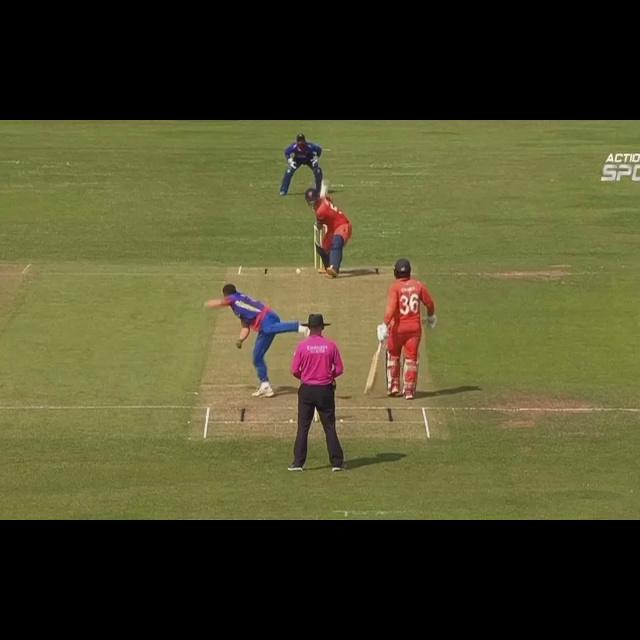umpire: (288, 307, 358, 483)
